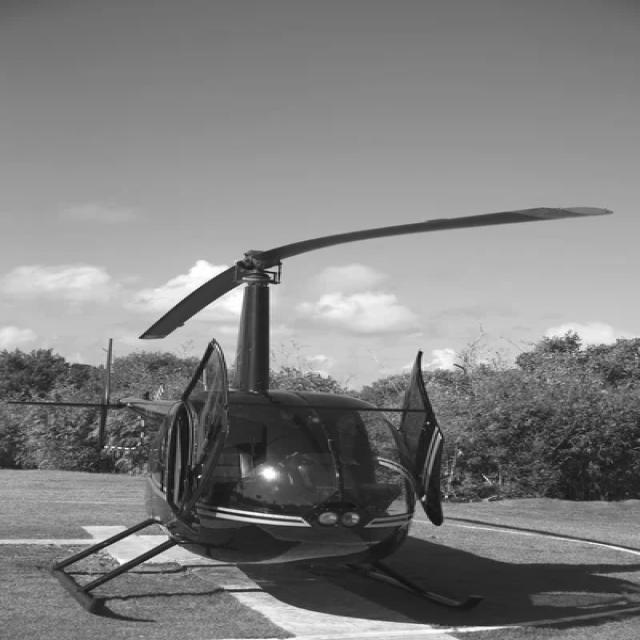Helicopter: (43, 207, 611, 614)
